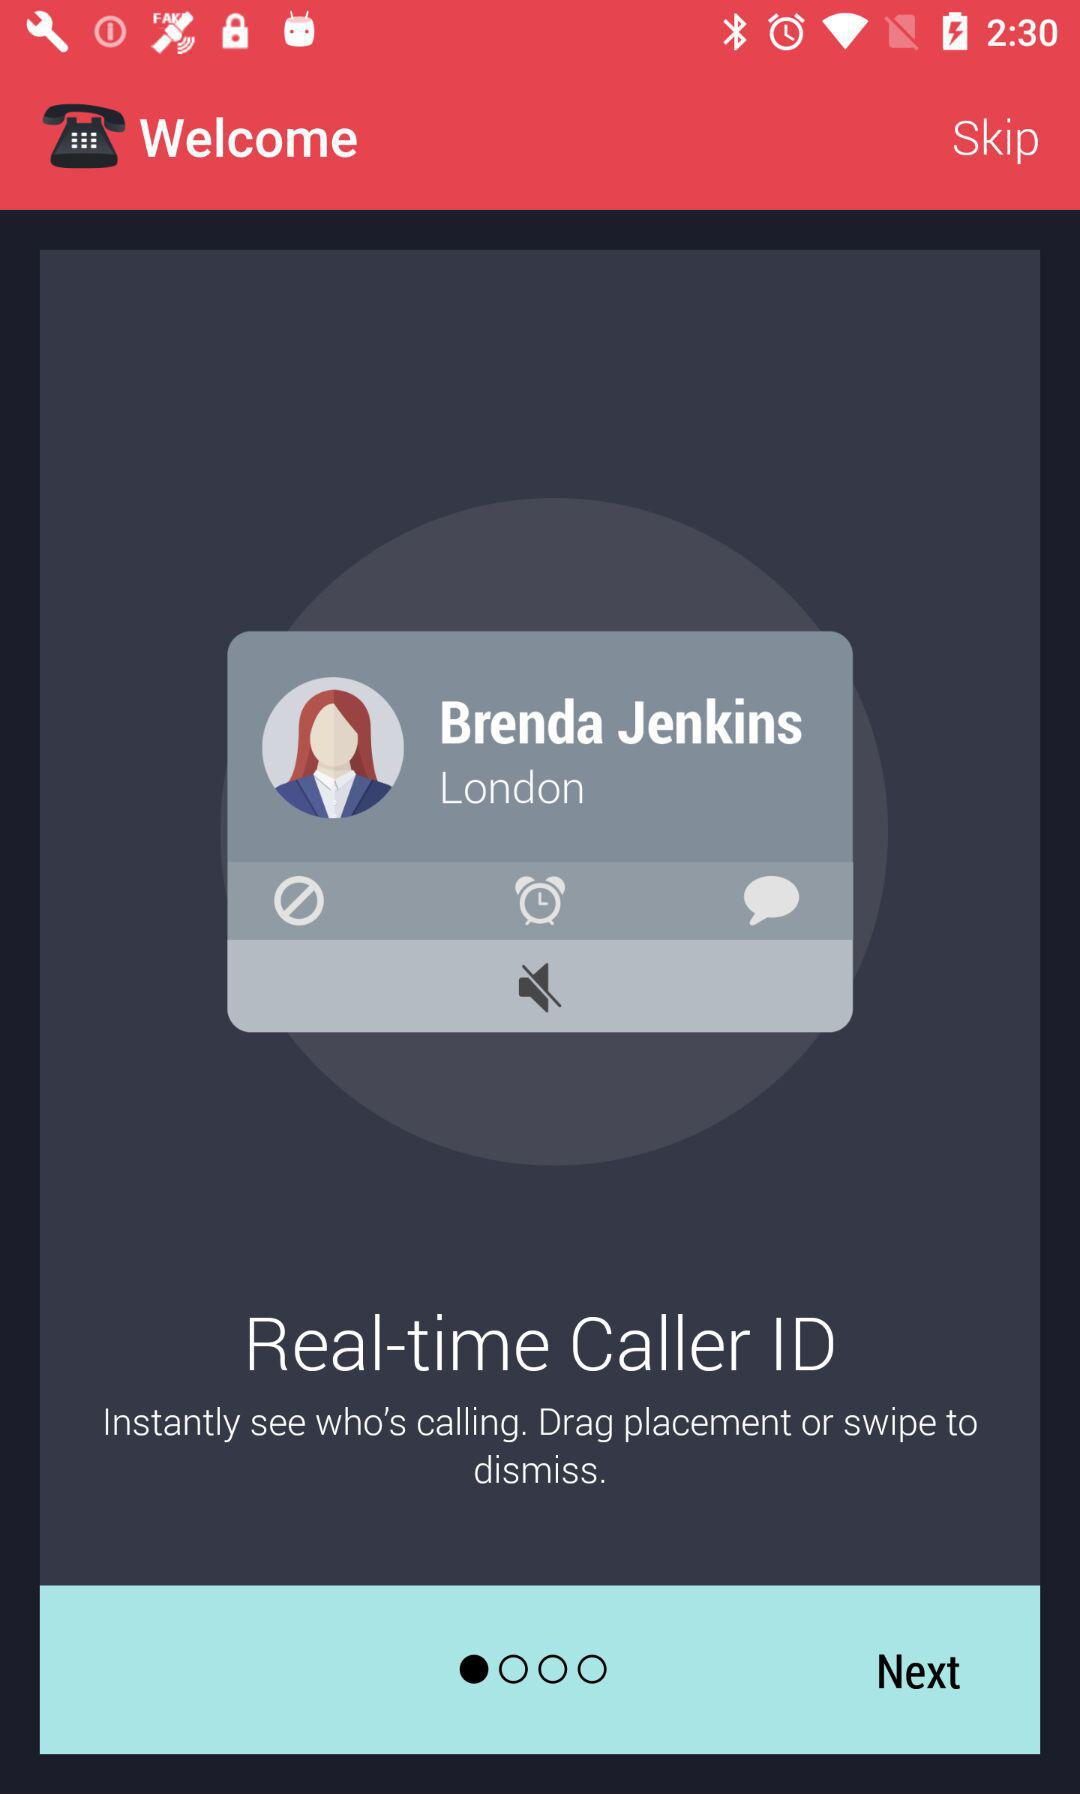Image: (225, 497, 889, 1167), (44, 104, 126, 169)
PageIndicator: (459, 1654, 609, 1685)
Text: (105, 1406, 978, 1484), (249, 1313, 834, 1372), (138, 118, 357, 160), (953, 118, 1039, 167), (879, 1653, 961, 1690)
Toolbar: (1, 58, 1080, 211)
UpperTaskBar: (1, 1, 1080, 58)
